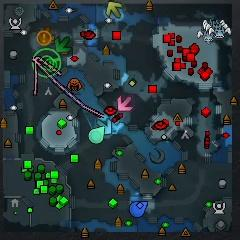Other: (37, 31, 52, 46), (45, 58, 57, 73)
p1: (129, 200, 148, 218)
p2: (89, 126, 105, 144)
x1: (117, 96, 133, 112)
x2: (106, 1, 122, 18)
x3: (97, 119, 113, 135)
x4: (55, 37, 71, 52)
x5: (43, 26, 55, 40)
